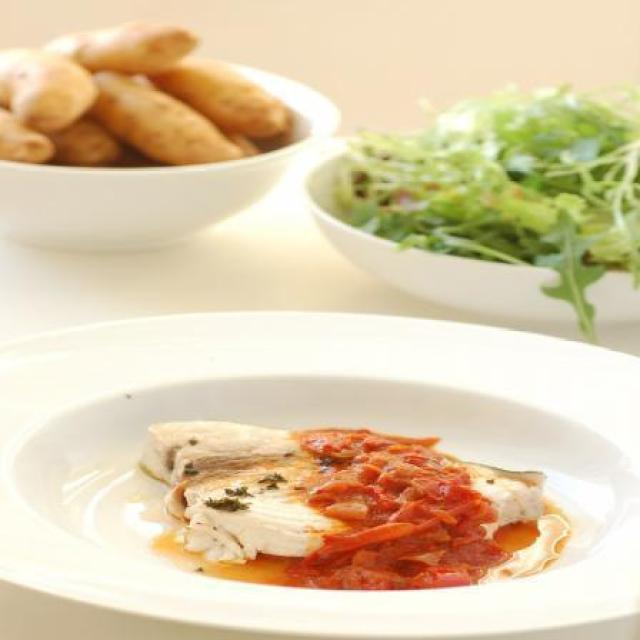Salad: (328, 75, 639, 342)
